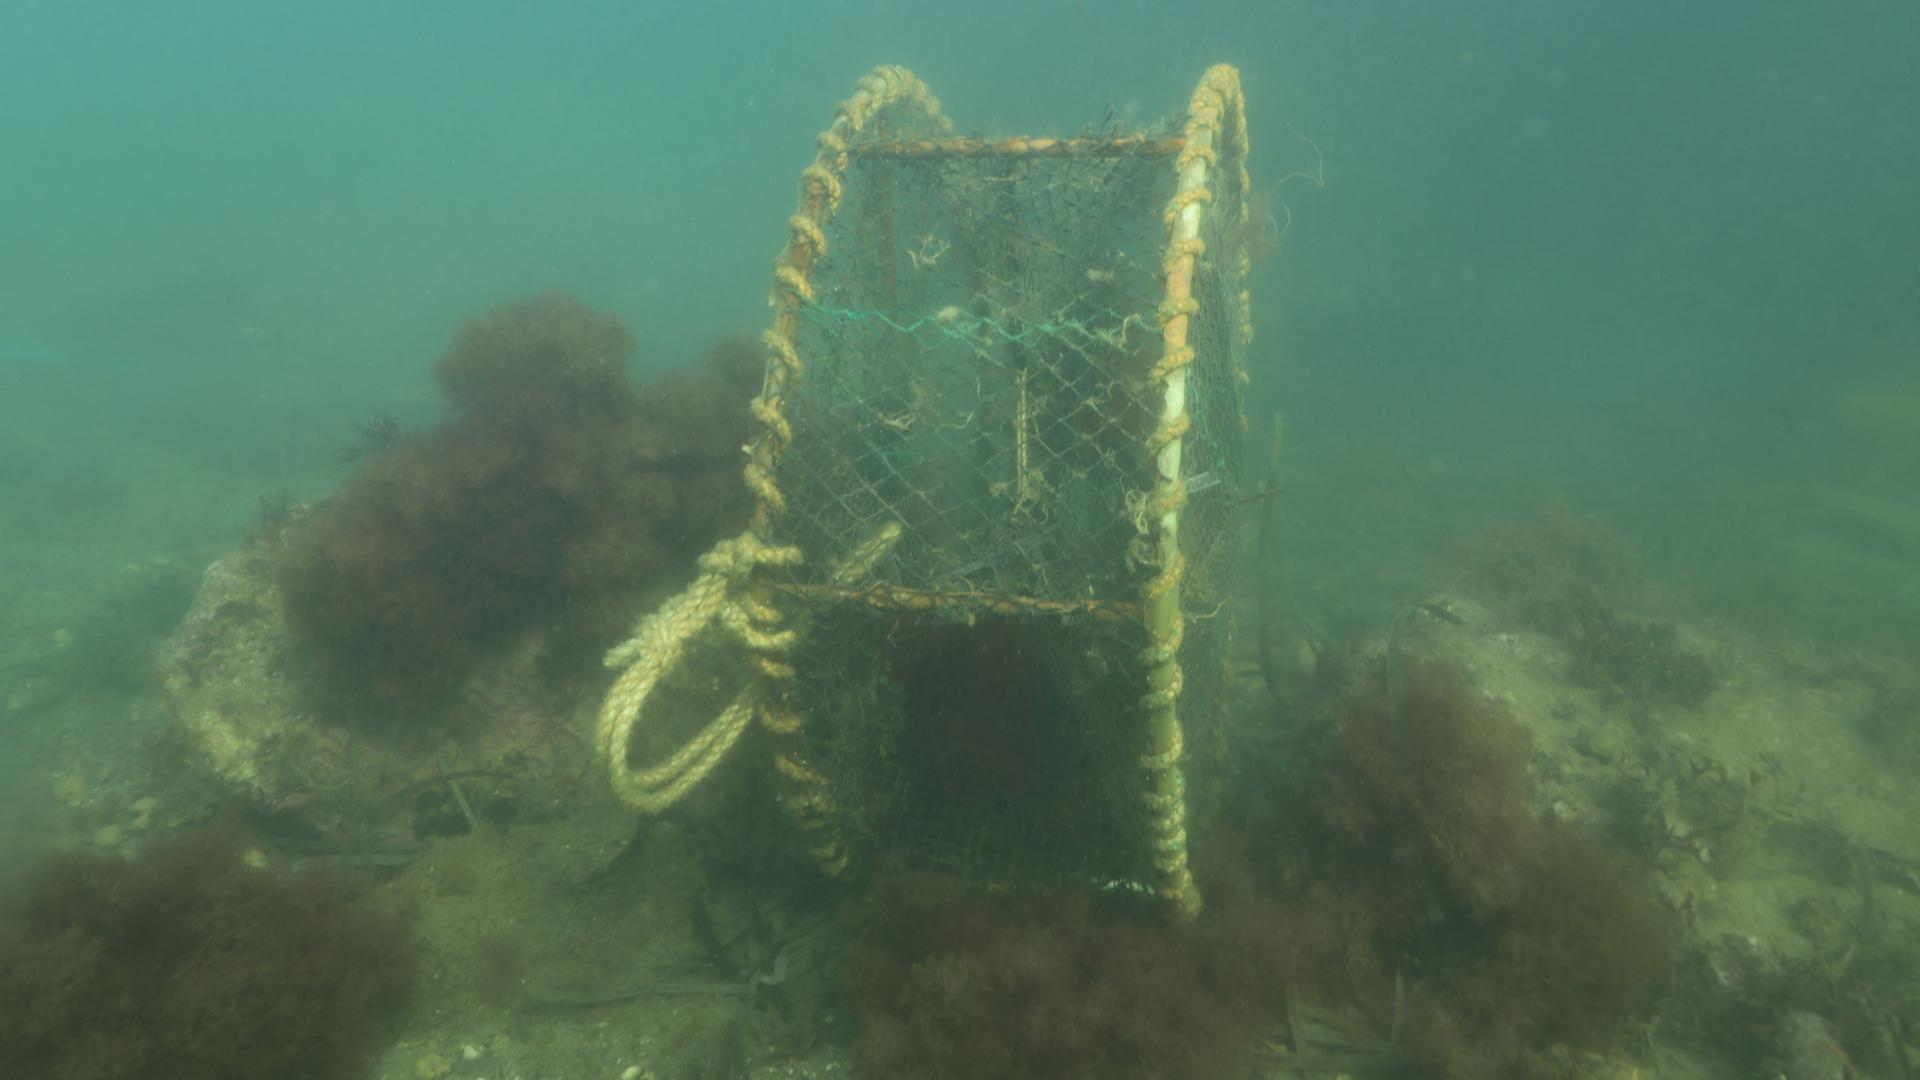bundle of ropes: (592, 539, 756, 815)
circular fish trap: (738, 58, 1253, 926)
